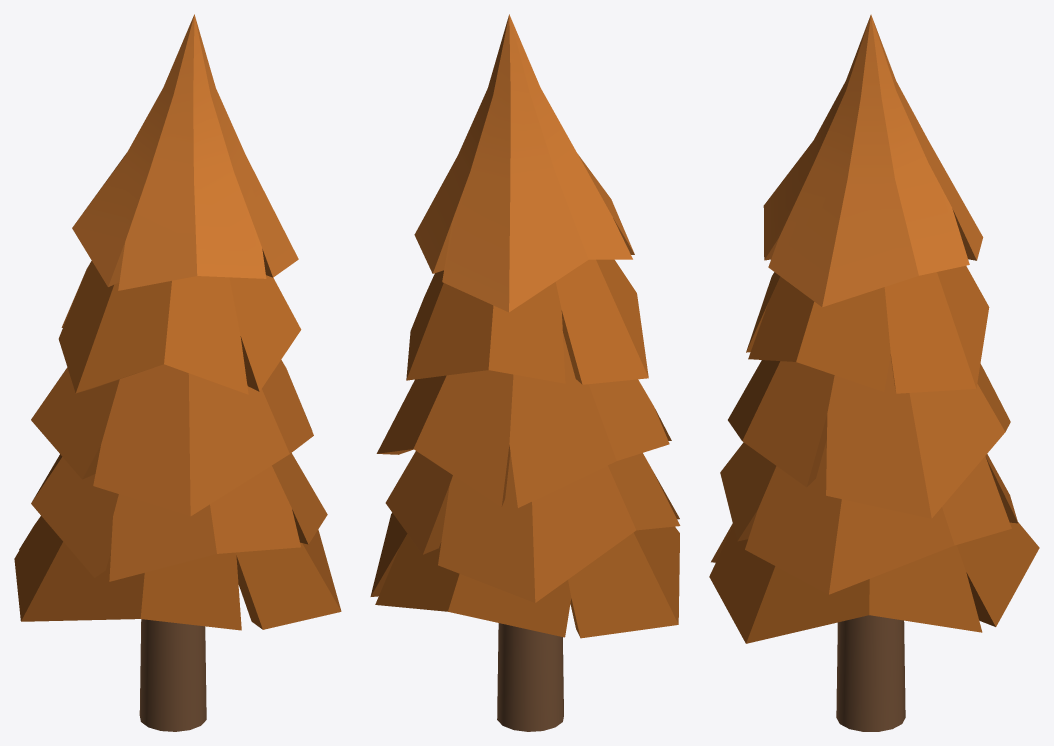
The model's file is Spruce_Orange_Thin_1.fbx.
3 views of the same model, side by side, from view 1: azimuth 30°, elevation 25°; view 2: azimuth 150°, elevation 25°; view 3: azimuth 270°, elevation 25° (orthographic). The views are drawn at different scales.
Parts seen in each view (by area): view 1: Cylinder.411, Cylinder.410, Cylinder.409, Cylinder.407, Cylinder.408, Cylinder.406; view 2: Cylinder.411, Cylinder.410, Cylinder.408, Cylinder.409, Cylinder.407, Cylinder.406; view 3: Cylinder.411, Cylinder.410, Cylinder.408, Cylinder.409, Cylinder.407, Cylinder.406.
Boxes of the visible parts, bbox=[...] form: Cylinder.411: bbox=[72, 14, 298, 290]; Cylinder.410: bbox=[31, 360, 313, 516]; Cylinder.409: bbox=[58, 261, 301, 394]; Cylinder.407: bbox=[14, 516, 341, 630]; Cylinder.408: bbox=[31, 453, 327, 581]; Cylinder.406: bbox=[139, 619, 206, 731]; Cylinder.411: bbox=[414, 14, 634, 312]; Cylinder.410: bbox=[376, 333, 671, 507]; Cylinder.408: bbox=[385, 451, 680, 602]; Cylinder.409: bbox=[406, 259, 648, 384]; Cylinder.407: bbox=[370, 512, 679, 638]; Cylinder.406: bbox=[497, 623, 563, 731]; Cylinder.411: bbox=[763, 14, 983, 307]; Cylinder.410: bbox=[728, 356, 1010, 518]; Cylinder.408: bbox=[720, 439, 1017, 594]; Cylinder.409: bbox=[746, 266, 989, 393]; Cylinder.407: bbox=[709, 522, 1039, 643]; Cylinder.406: bbox=[836, 615, 905, 731].
Bounding box in the file's own units: 247 × 567 × 238.
